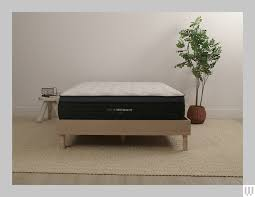bed-matress: (57, 78, 186, 120)
